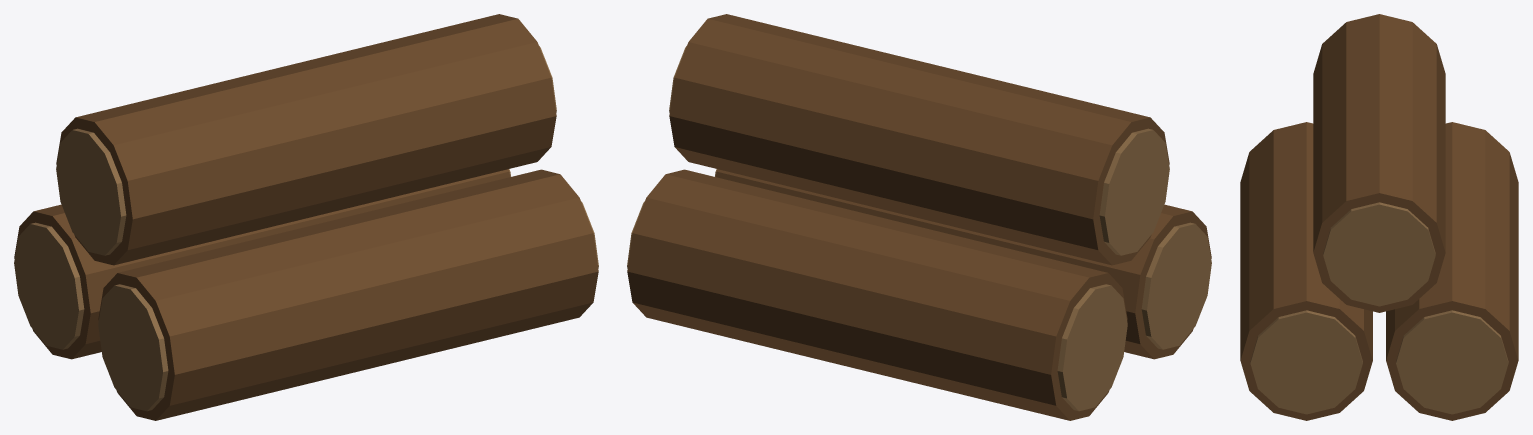
File: objet_bois.glb
The picture shows the model from 3 angles, left to right: view 1: azimuth 30°, elevation 25°; view 2: azimuth 150°, elevation 25°; view 3: azimuth 270°, elevation 25°; orthographic projection. The views are drawn at different scales.
Parts seen in each view (by area): view 1: bois_ecorce.002, bois_bois.002; view 2: bois_ecorce.002, bois_bois.002; view 3: bois_ecorce.002, bois_bois.002.
Part boxes in pixels (box(x1,y1,x2,y2)): bois_ecorce.002: box(14, 14, 598, 420); bois_bois.002: box(14, 46, 598, 411); bois_ecorce.002: box(627, 14, 1211, 420); bois_bois.002: box(627, 46, 1211, 411); bois_ecorce.002: box(1240, 14, 1518, 420); bois_bois.002: box(1250, 202, 1508, 414).
Size of the model in its own units: 0.329 by 0.19 by 0.21.
